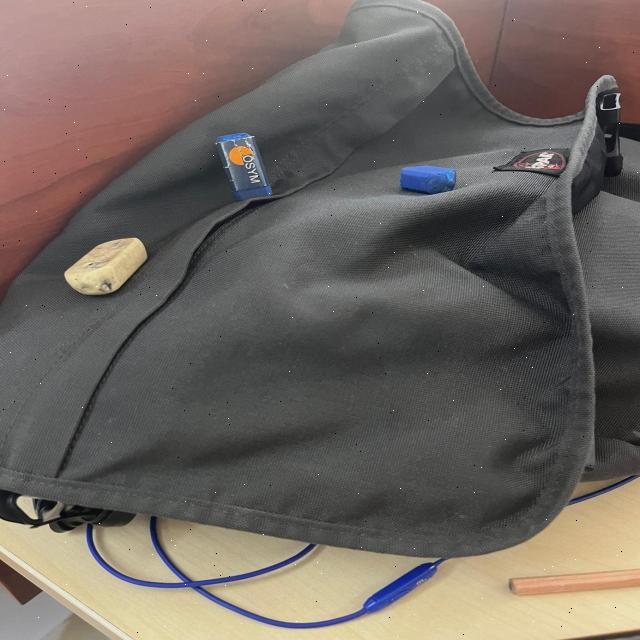eraser: (55, 229, 164, 297), (213, 129, 290, 212), (390, 156, 480, 196)
